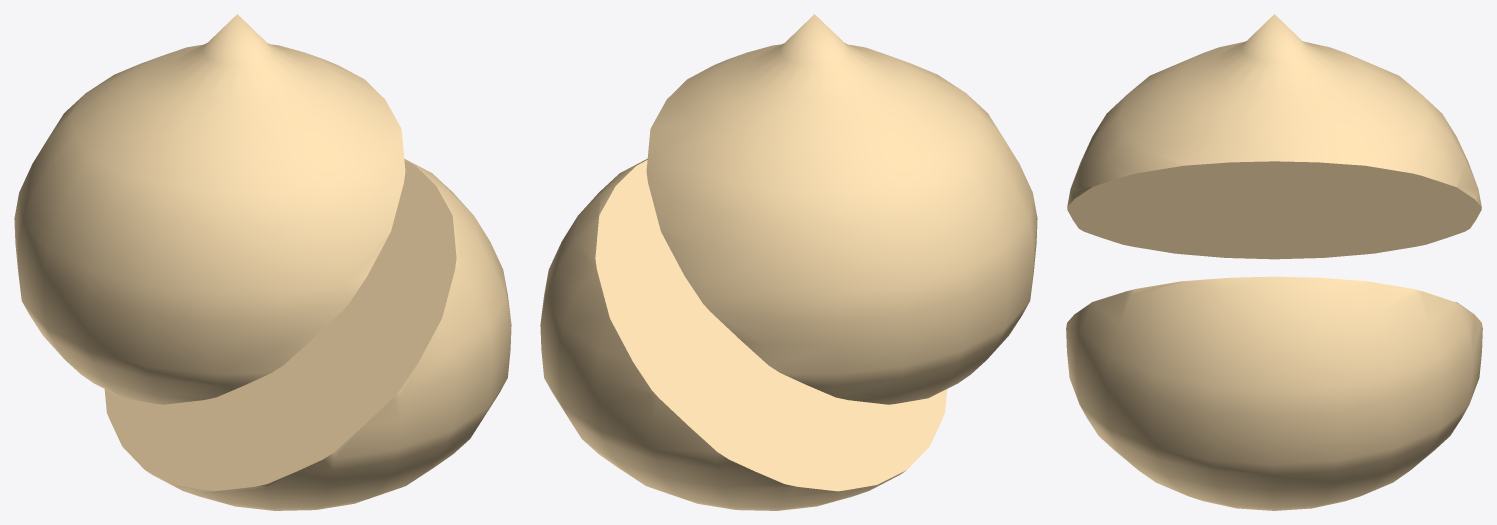
Rendered from tama_2.fbx.
The picture shows the model from 3 angles, left to right: view 1: azimuth 30°, elevation 25°; view 2: azimuth 150°, elevation 25°; view 3: azimuth 270°, elevation 25°; orthographic projection. The views are drawn at different scales.
Visible parts, largest first — view 1: pSphere4; view 2: pSphere4; view 3: pSphere4.
Part boxes in pixels (<box>): pSphere4: <box>14,14,511,510</box>; pSphere4: <box>540,14,1037,510</box>; pSphere4: <box>1066,14,1482,510</box>.
Bounding box in the file's own units: 2.27 × 2.4 × 2.01.
